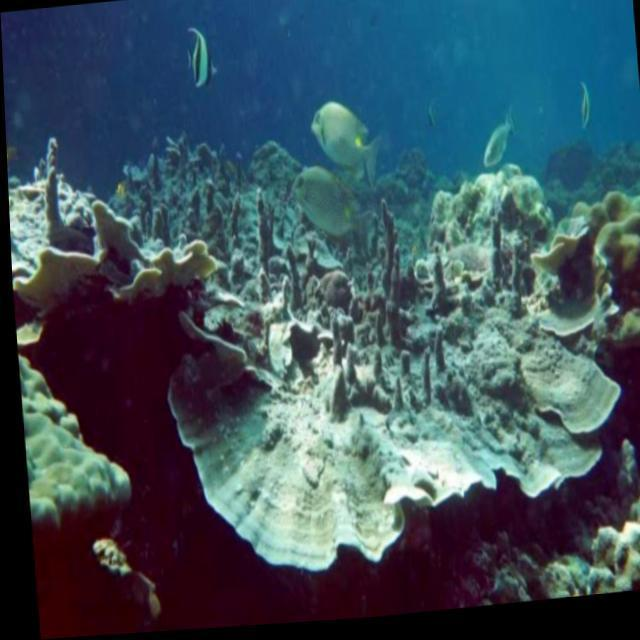Dead Coral: (20, 123, 640, 596)
